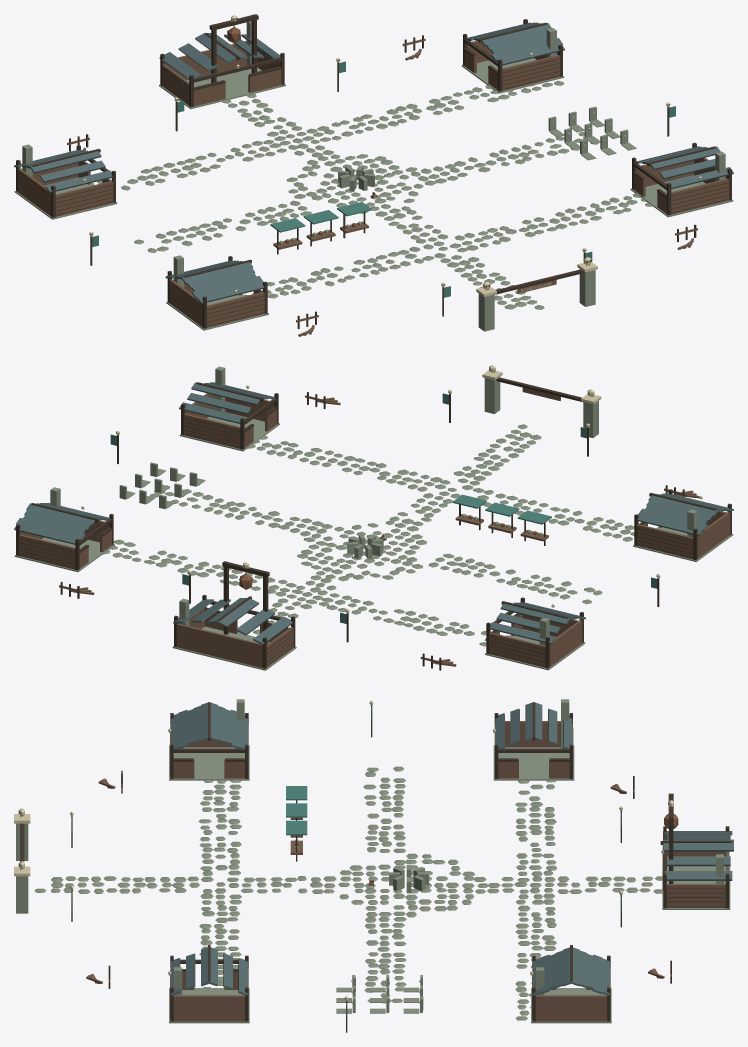
File: bonehollow.glb
3 renders of one model, top to bottom at view 1: azimuth 30°, elevation 25°; view 2: azimuth 150°, elevation 25°; view 3: azimuth 270°, elevation 25°, orthographic. The views are drawn at different scales.
Parts seen in each view (by area): view 1: Road, BellHall, CedarHouse, CryptHouse, Apothecary, WatchHouse, Gate, Market, Graves, BellTower, Standards, Debris (+1 smaller); view 2: Road, BellHall, CryptHouse, WatchHouse, CedarHouse, Apothecary, Gate, Market, Graves, BellTower, Standards, Debris (+1 smaller); view 3: Road, CedarHouse, Apothecary, CryptHouse, BellHall, WatchHouse, Gate, Market, Graves, Well, Debris.
Boxes of the visible parts, x1,y1,x2,y2 form: Road: (91, 80, 652, 309); BellHall: (159, 21, 285, 109); CedarHouse: (165, 255, 268, 330); CryptHouse: (461, 19, 564, 93); Apothecary: (14, 144, 117, 219); WatchHouse: (630, 142, 733, 217); Gate: (476, 257, 597, 331); Market: (270, 202, 371, 254); Graves: (548, 106, 636, 160); BellTower: (209, 14, 258, 82); Standards: (89, 58, 675, 316); Debris: (67, 35, 697, 336); Road: (103, 424, 634, 646); BellHall: (172, 595, 296, 670); CryptHouse: (14, 487, 114, 572); WatchHouse: (179, 366, 279, 451); CedarHouse: (633, 489, 733, 561); Apothecary: (485, 597, 585, 670); Gate: (482, 365, 601, 437); Market: (452, 494, 551, 545); Graves: (119, 462, 205, 509); BellTower: (222, 561, 269, 643); Standards: (110, 390, 660, 642); Debris: (59, 392, 699, 670); Road: (34, 766, 662, 1020); CedarHouse: (168, 699, 249, 780); Apothecary: (493, 699, 574, 780); CryptHouse: (530, 945, 611, 1023); BellHall: (660, 826, 733, 909); WatchHouse: (168, 945, 249, 1023); Gate: (14, 808, 30, 913); Market: (286, 786, 307, 861); Graves: (336, 975, 423, 1013); Well: (389, 865, 428, 893); Debris: (86, 770, 671, 988).
Size of the model in its own units: 56.94 by 7.61 by 57.68.
